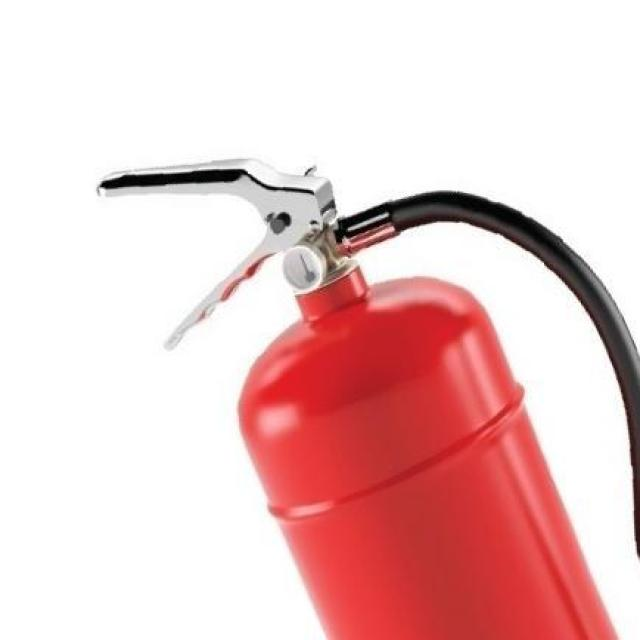fire_extinguisher: (86, 148, 638, 638)
